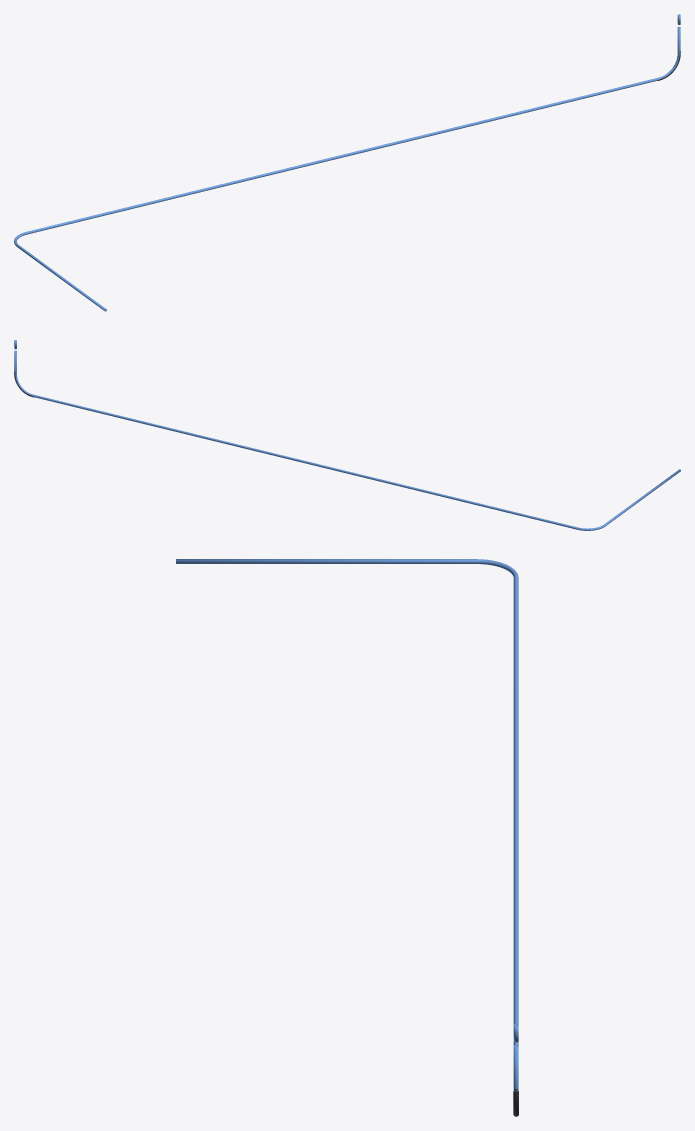
The model's file is slab_pipes_supply__water-city_filter_and_plumbing-pex+pex_branch_and_softener-no+yes.glb.
3 renders of one model, top to bottom at view 1: azimuth 30°, elevation 25°; view 2: azimuth 150°, elevation 25°; view 3: azimuth 270°, elevation 25°, orthographic. The views are drawn at different scales.
Visible parts, largest first — view 1: pipe_supply_house_entry__pex; view 2: pipe_supply_house_entry__pex; view 3: pipe_supply_house_entry__pex.
Part boxes in pixels (box(x1,y1,x2,y2)): pipe_supply_house_entry__pex: box(14, 14, 680, 311); pipe_supply_house_entry__pex: box(14, 340, 680, 530); pipe_supply_house_entry__pex: box(176, 559, 518, 1091).
Size of the model in its own units: 7.77 by 0.6688 by 1.99.
